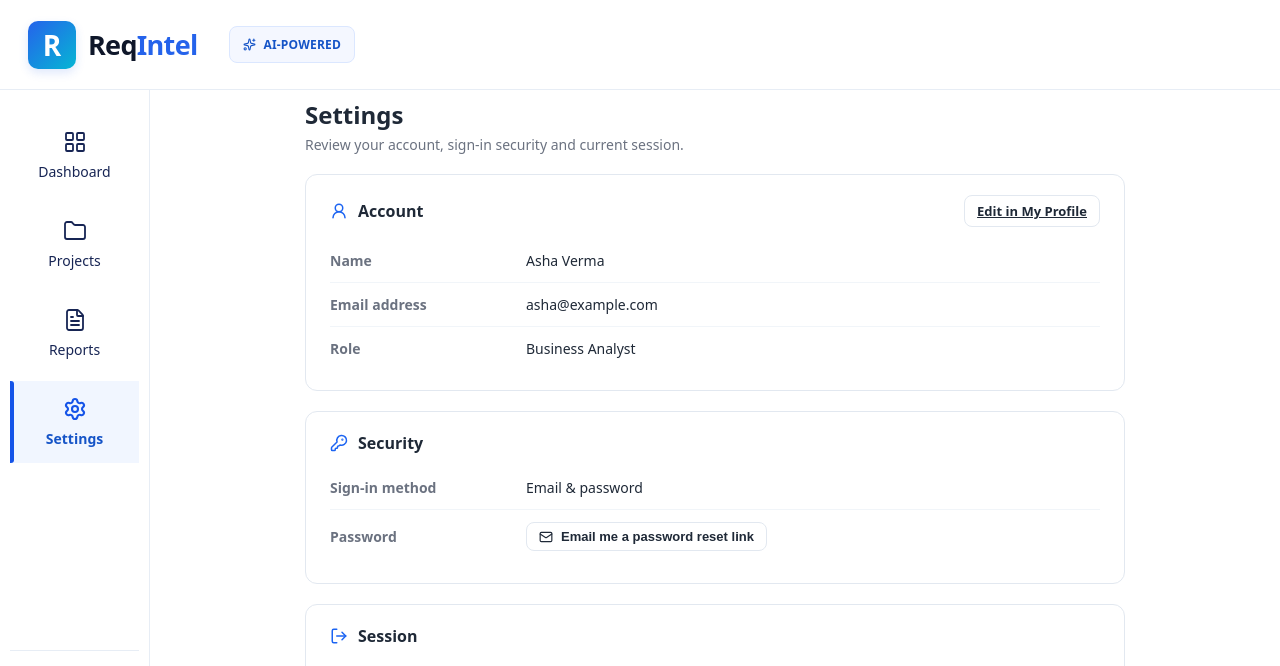
Test case: SettingsPage › sends a password reset email for password accounts
Click the button "Email me a password reset link" at [646, 536], box left=526, top=522, right=767, bottom=551
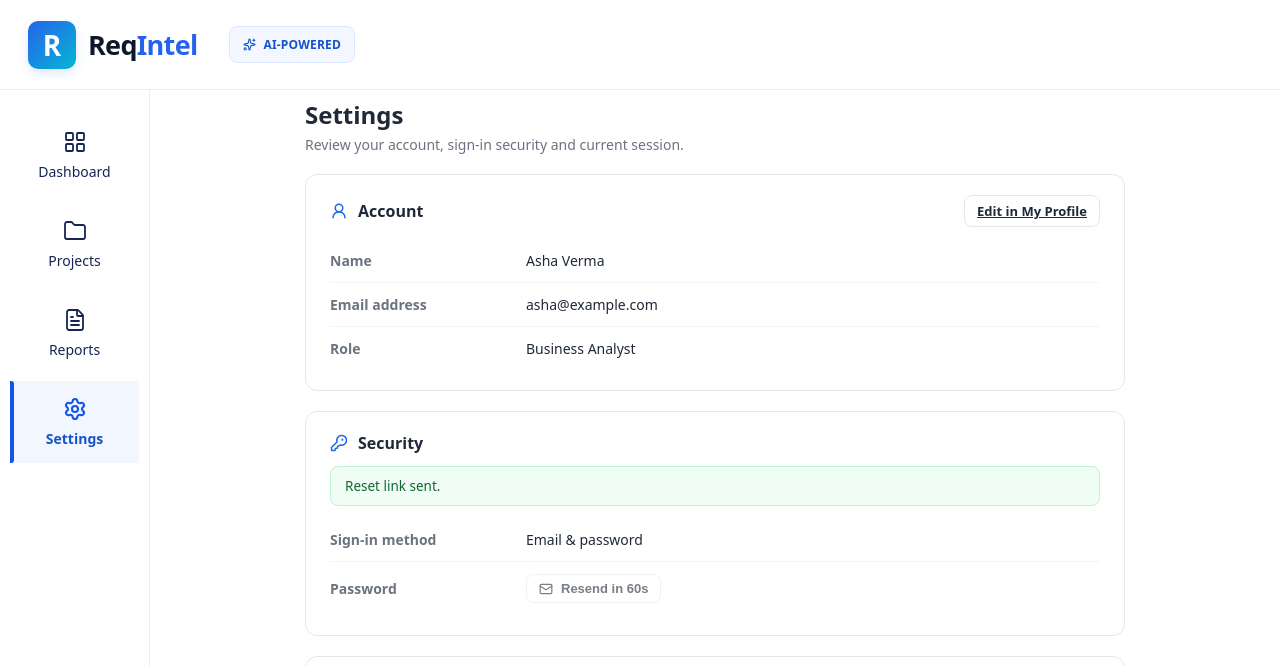
Expected: the text "Reset link sent." is shown, left=330, top=466, right=1100, bottom=506
